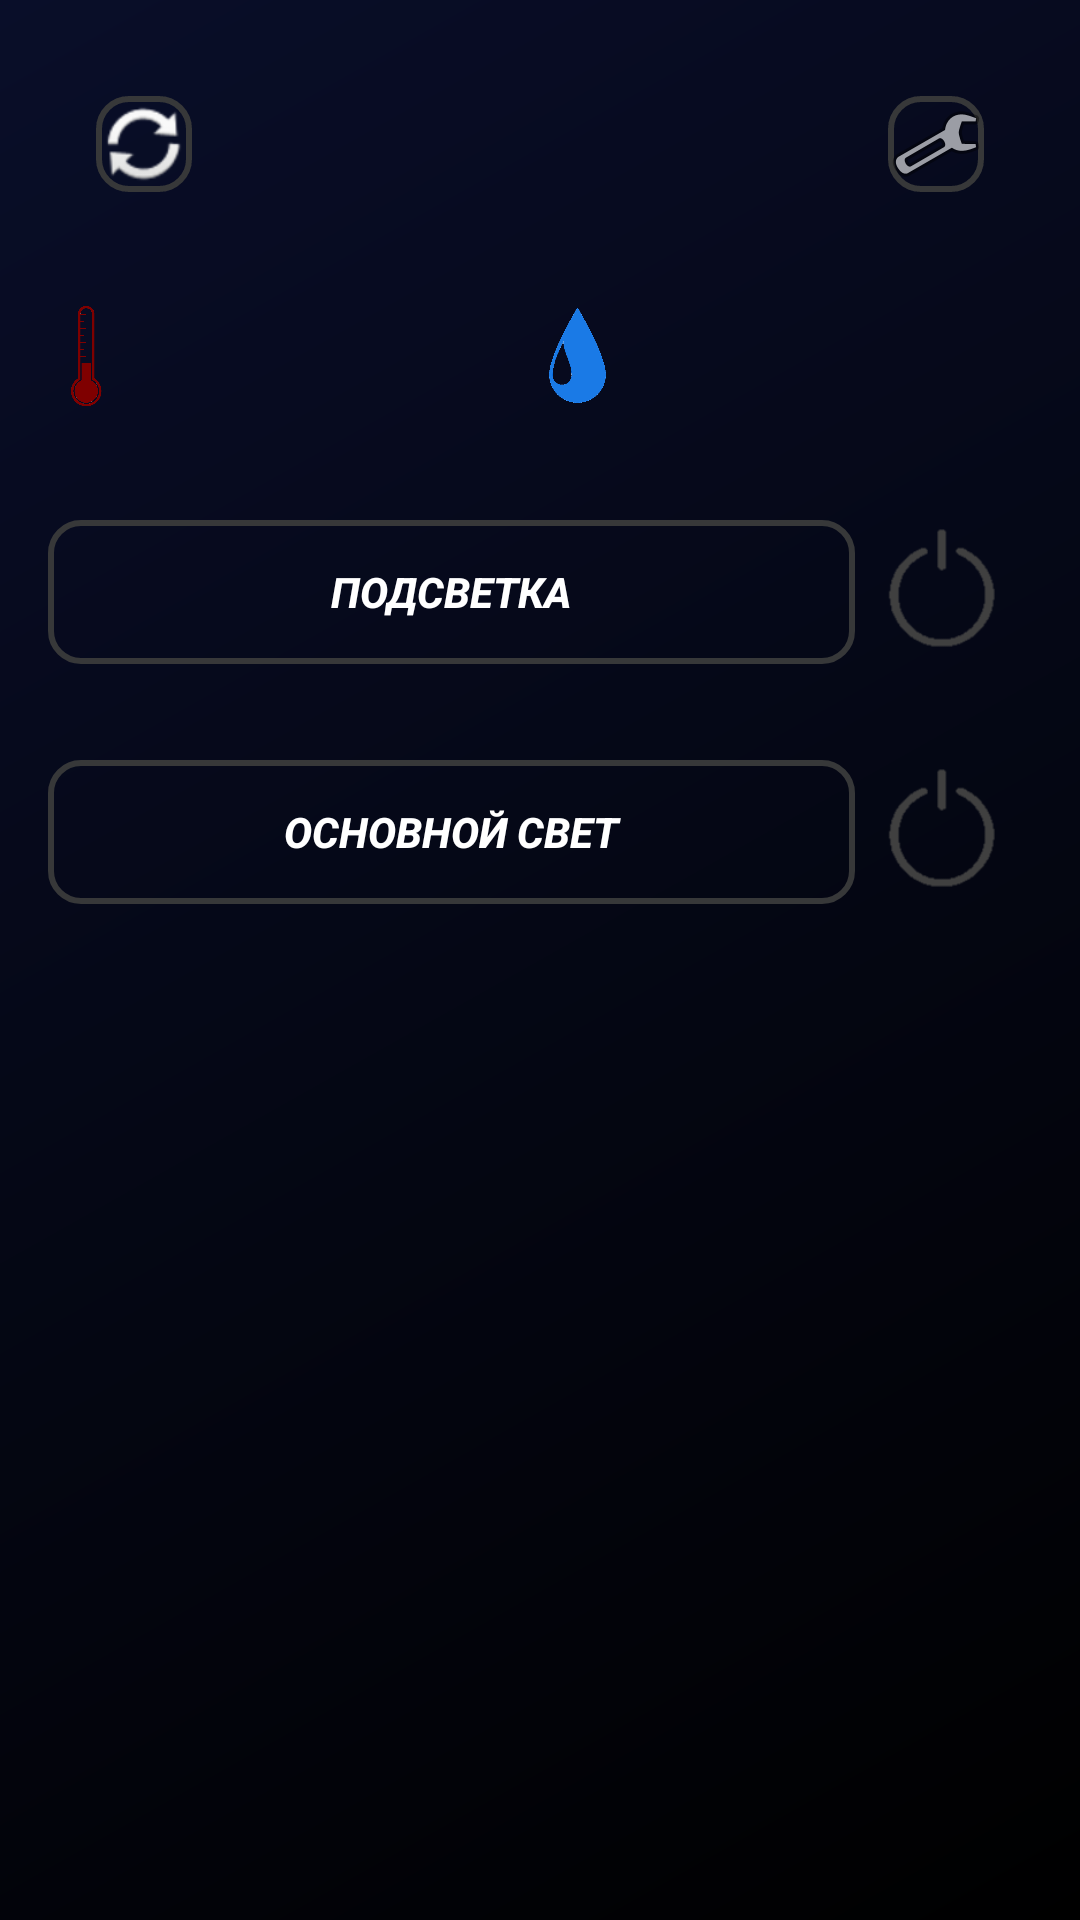

Screen size 1080 x 1920. Icon name, then its center in pixels as (x,y):
drop: (577,355)
manage: (936,144)
popup sync: (144,144)
thermometr: (86,356)
